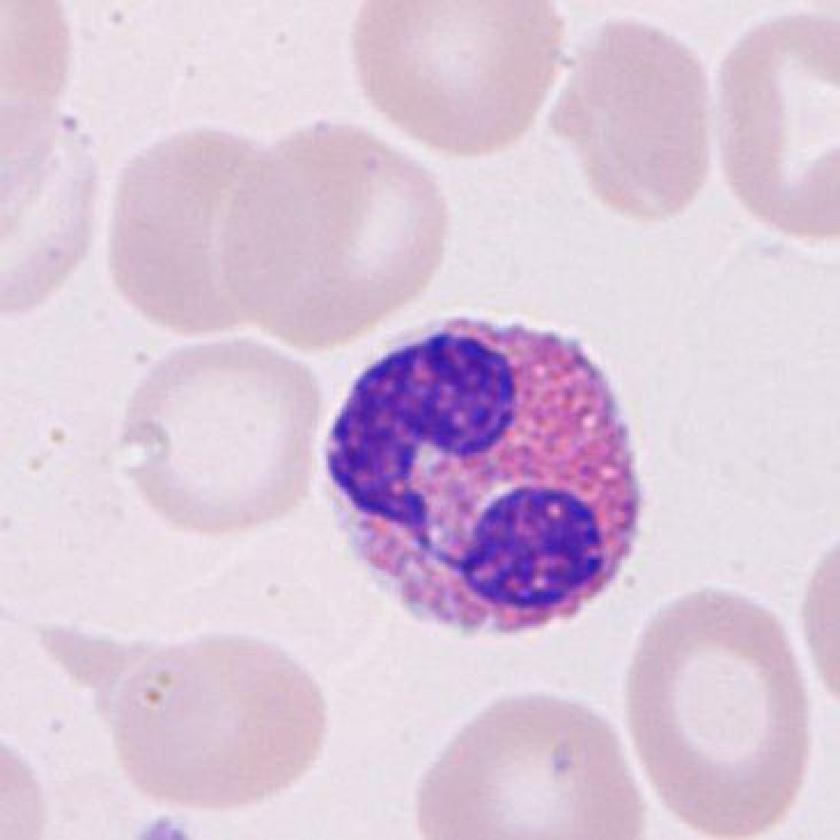eosinophil: (302, 306, 664, 648)
